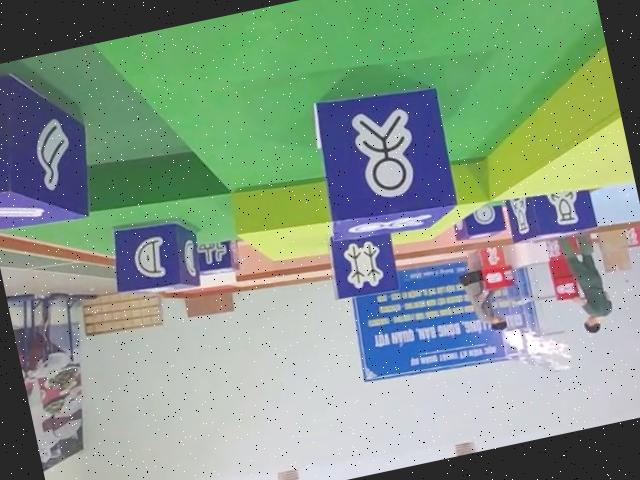R2 Real Blue: (302, 75, 461, 247), (0, 49, 102, 235), (101, 209, 204, 301), (323, 221, 402, 301), (501, 182, 594, 247), (449, 203, 506, 244), (191, 235, 242, 277)
